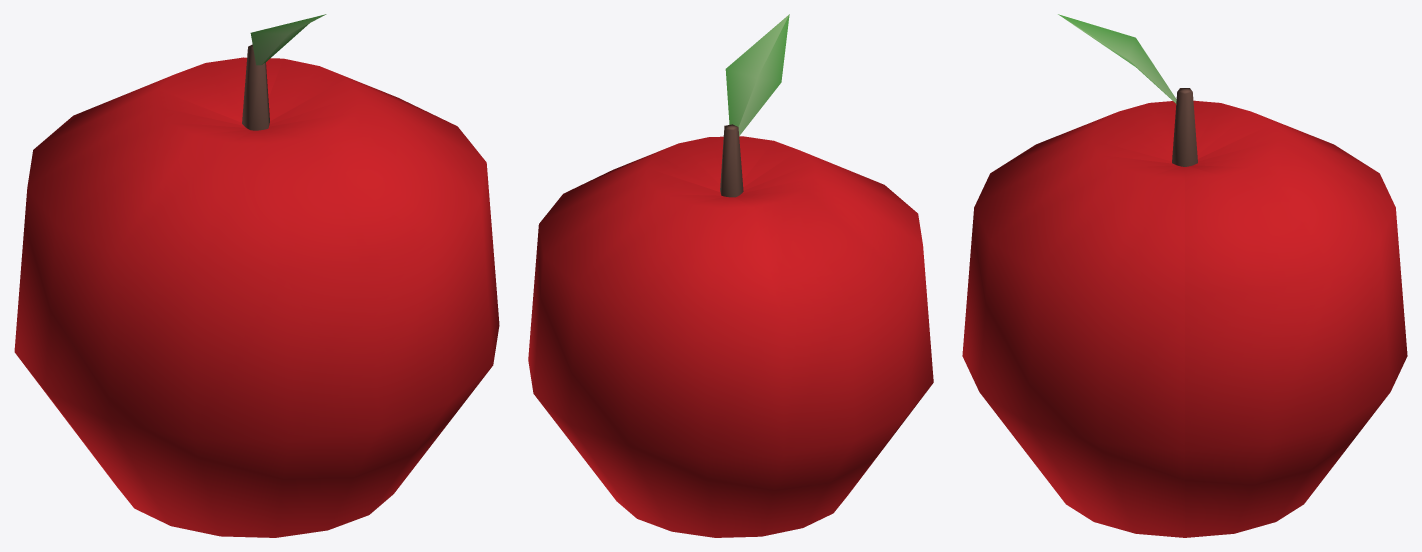
Rendered from fruit-apple-gold.glb.
3 views of the same model, side by side, from view 1: azimuth 30°, elevation 25°; view 2: azimuth 150°, elevation 25°; view 3: azimuth 270°, elevation 25° (orthographic). The views are drawn at different scales.
Parts seen in each view (by area): view 1: fruit-apple; view 2: fruit-apple; view 3: fruit-apple.
Boxes of the visible parts, x1,y1,x2,y2 form: fruit-apple: [14, 14, 499, 537]; fruit-apple: [528, 14, 933, 537]; fruit-apple: [962, 14, 1407, 537].
Size of the model in its own units: 0.38 by 0.4523 by 0.38.
